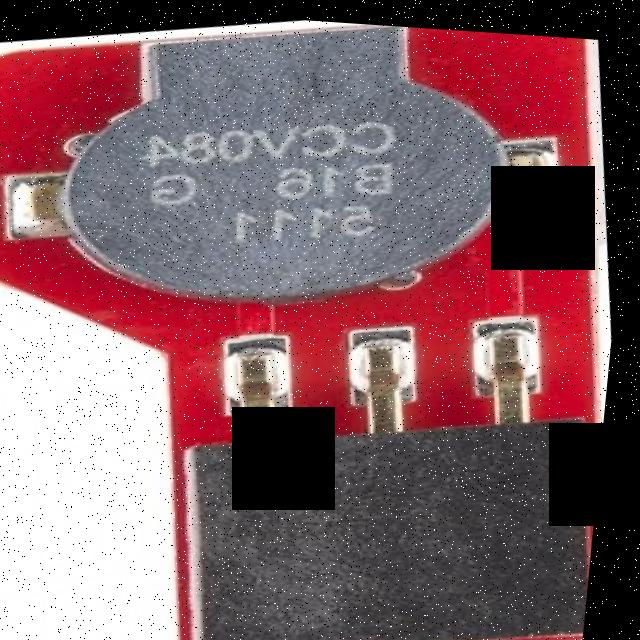buzzer: (0, 1, 558, 341)
connector -5v-: (165, 318, 617, 640)
